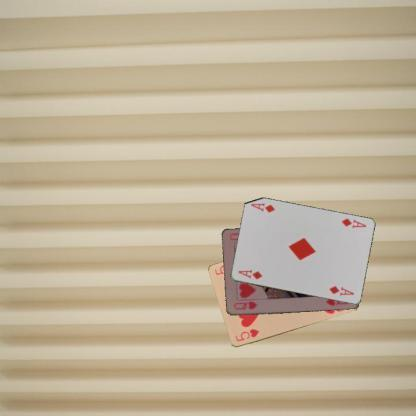5h: (233, 326, 260, 342)
Ad: (338, 216, 368, 230), (235, 267, 263, 281)
Qh: (230, 299, 258, 311)
